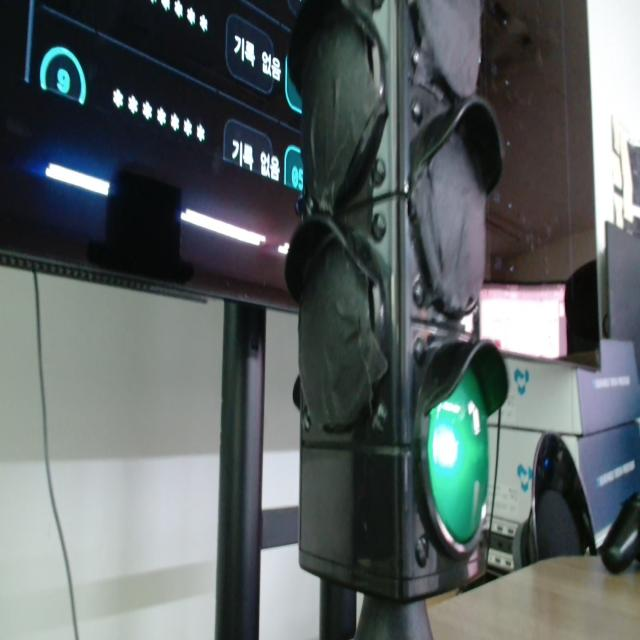green_light: (428, 370, 488, 544)
